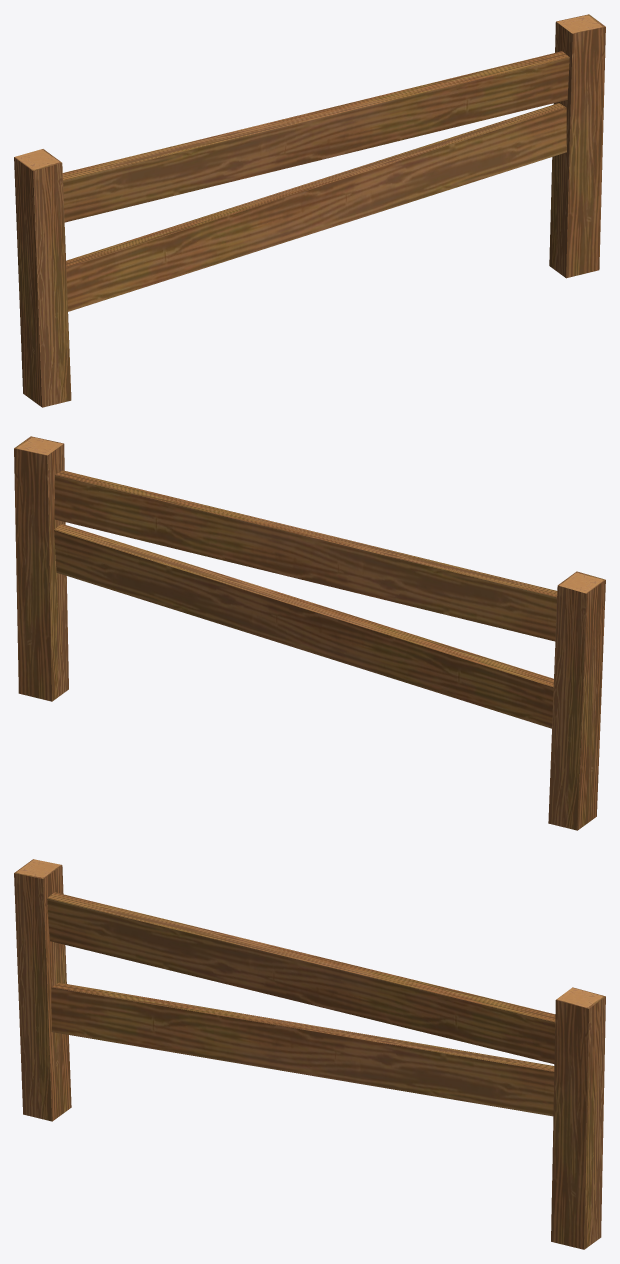
File: Prop_WoodenFence_Single.glb
3 views of the same model, one above another, from view 1: azimuth 30°, elevation 25°; view 2: azimuth 150°, elevation 25°; view 3: azimuth 330°, elevation 25° (orthographic).
Parts seen in each view (by area): view 1: Prop_WoodenFence_Single; view 2: Prop_WoodenFence_Single; view 3: Prop_WoodenFence_Single.
Boxes of the visible parts, x1,y1,x2,y2 form: Prop_WoodenFence_Single: (14, 14, 605, 407); Prop_WoodenFence_Single: (14, 436, 605, 830); Prop_WoodenFence_Single: (14, 859, 605, 1249).
Bounding box in the file's own units: 2.06 × 0.8381 × 0.1197.
1 material, 1 textured.
